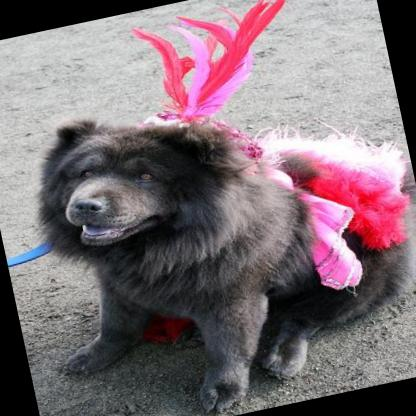chow: (6, 51, 416, 416)
